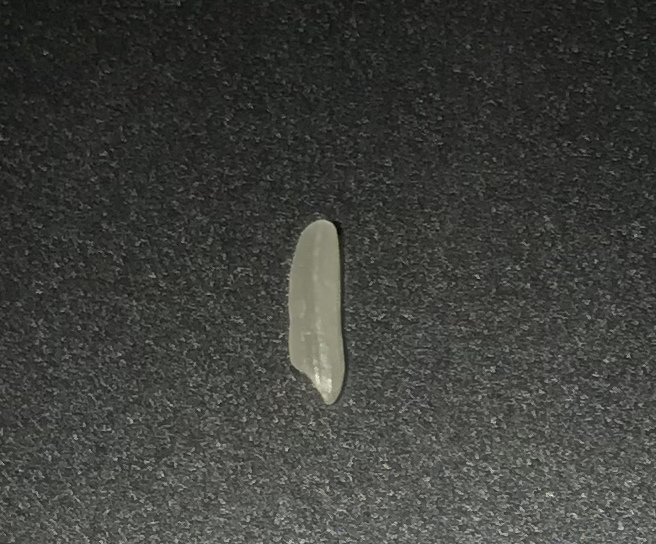Gao Long Lai: (273, 206, 363, 407)
